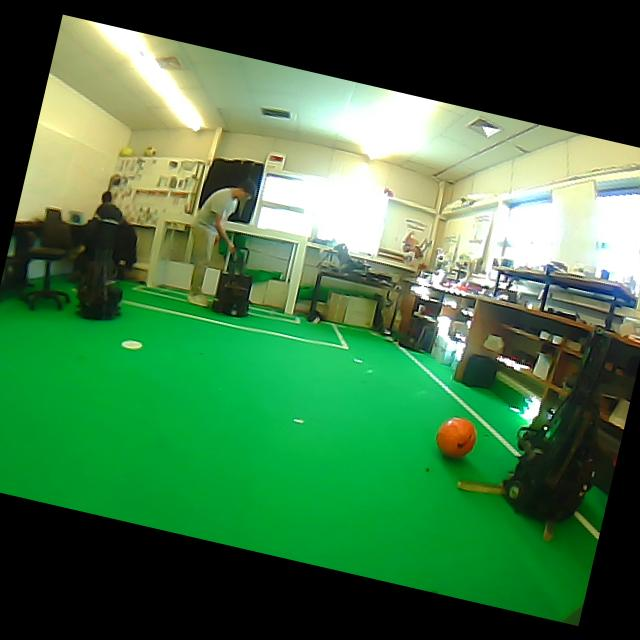ball: (436, 417, 476, 458), (118, 145, 133, 157), (144, 147, 154, 156)
goal: (283, 237, 306, 314), (145, 213, 166, 285)
robot: (503, 334, 611, 521), (77, 261, 123, 320), (212, 248, 252, 315)
